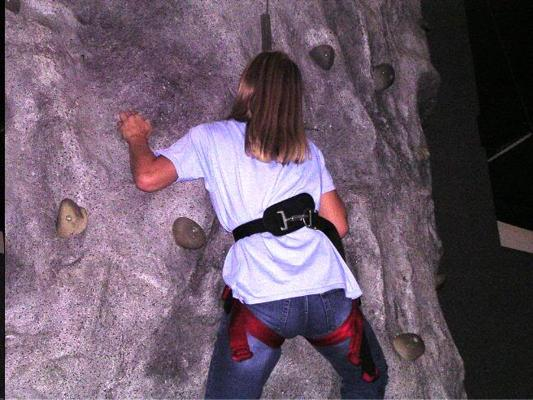person: (115, 51, 390, 400)
